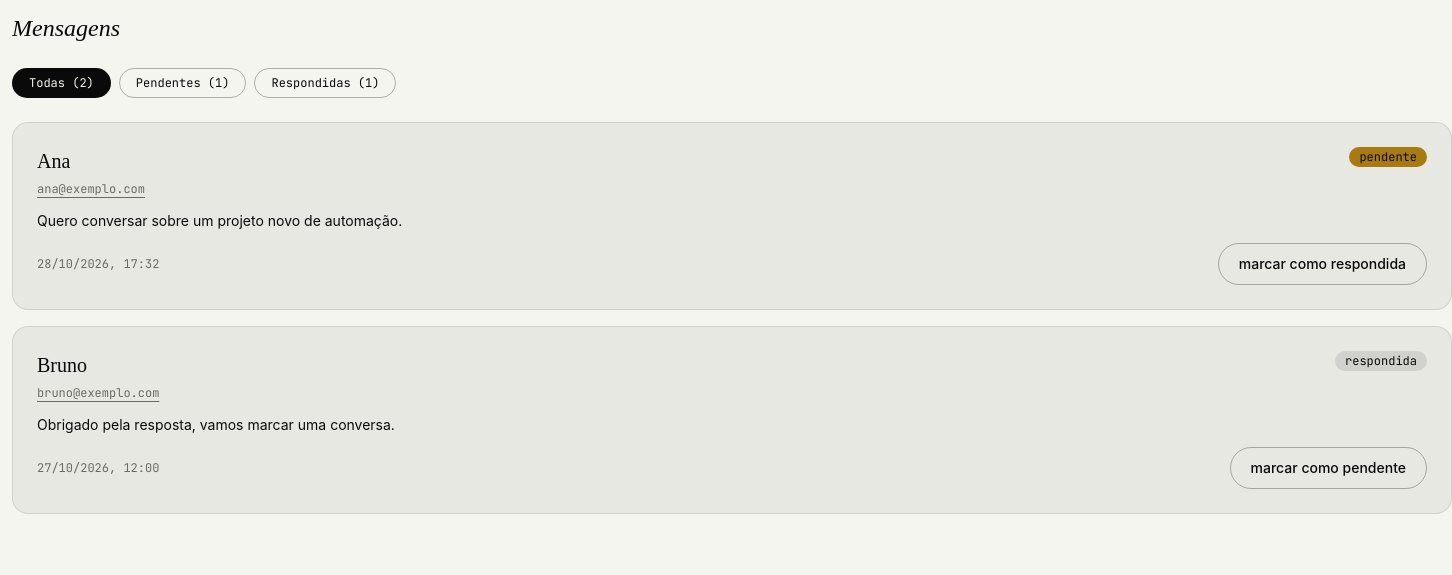
Test: MessagesPanel › se o service falhar, o status volta ao anterior e avisa
The image size is (1452, 575).
Expected: the heading "Ana" is shown, [37, 150, 70, 172]
Step 1. Click the button "marcar como respondida" → (1322, 264), box [1218, 243, 1427, 285]
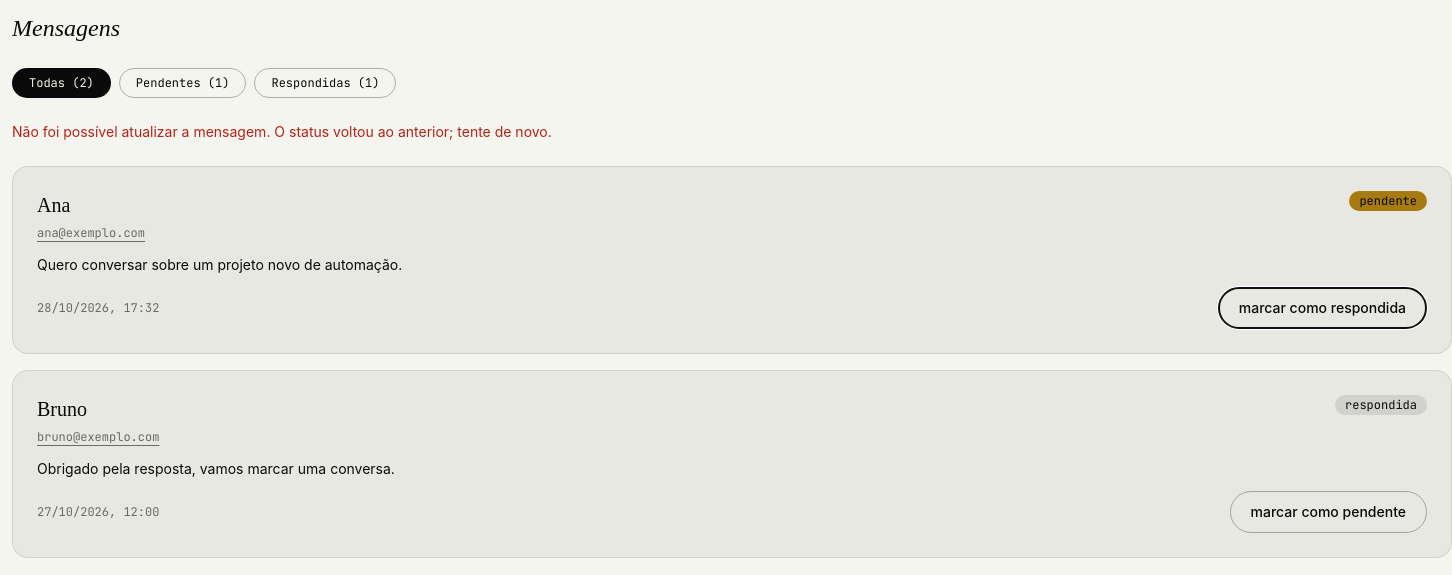
Expected: the text "pendente" is shown, [1349, 191, 1427, 211]
Expected: the message shows "Não foi possível atualizar", [12, 123, 552, 140]
